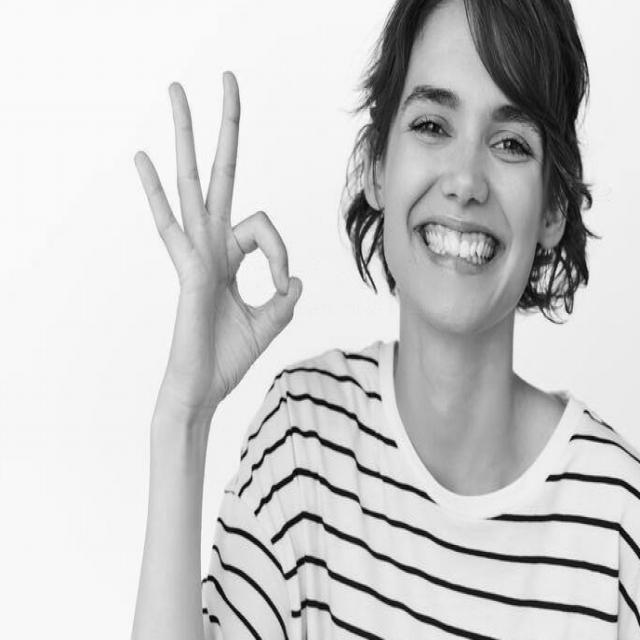perfect: (127, 62, 307, 441)
